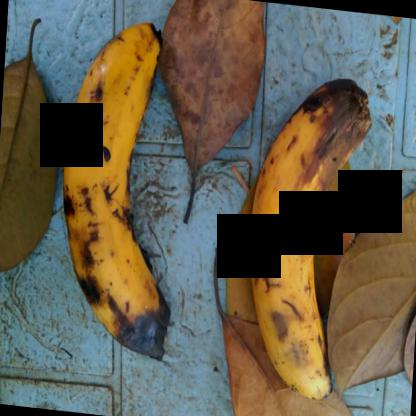overripe: (56, 9, 197, 366), (244, 70, 378, 409)
